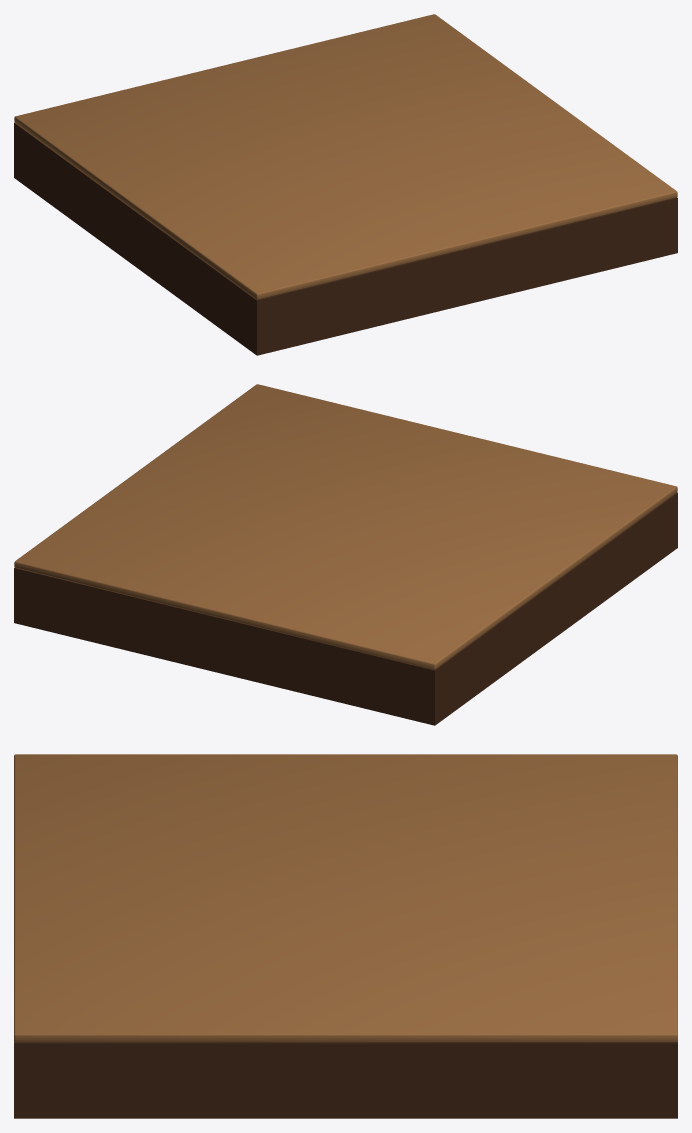
Rendered from Slab_Upper_Floor_2m.glb.
3 views of the same model, one above another, from view 1: azimuth 30°, elevation 25°; view 2: azimuth 150°, elevation 25°; view 3: azimuth 270°, elevation 25° (orthographic). The views are drawn at different scales.
Parts seen in each view (by area): view 1: Slab_Upper_Floor_2m; view 2: Slab_Upper_Floor_2m; view 3: Slab_Upper_Floor_2m.
Part boxes in pixels (left/top/right/bottom): Slab_Upper_Floor_2m: left=14, top=14, right=677, bottom=355; Slab_Upper_Floor_2m: left=14, top=384, right=677, bottom=725; Slab_Upper_Floor_2m: left=14, top=754, right=677, bottom=1118.
Bounding box in the file's own units: 2 × 0.28 × 2.
